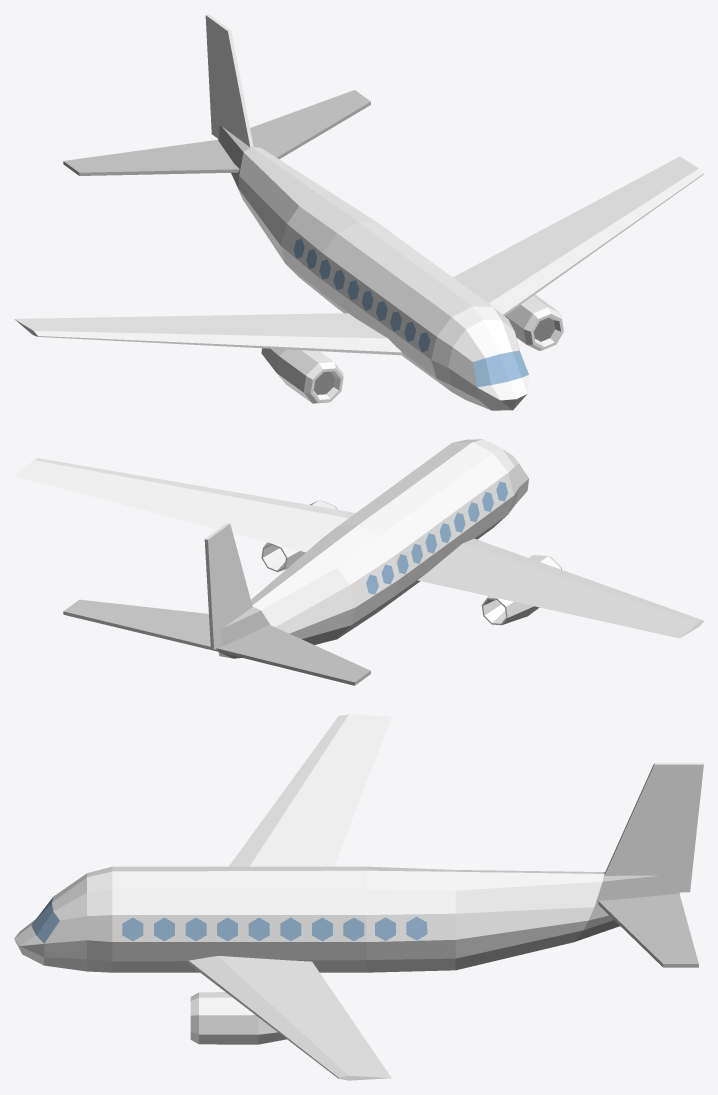
Rendered from transport_air_005.fbx.
The picture shows the model from 3 angles, top to bottom: view 1: azimuth 30°, elevation 25°; view 2: azimuth 150°, elevation 25°; view 3: azimuth 270°, elevation 25°; orthographic projection. The views are drawn at different scales.
Visible parts, largest first — view 1: transport_air_005; view 2: transport_air_005; view 3: transport_air_005.
Part boxes in pixels (left/top/right/bottom): transport_air_005: left=14, top=14, right=703, bottom=410; transport_air_005: left=14, top=439, right=703, bottom=685; transport_air_005: left=14, top=714, right=703, bottom=1080.
Bounding box in the file's own units: 2739 × 771 × 2205.
